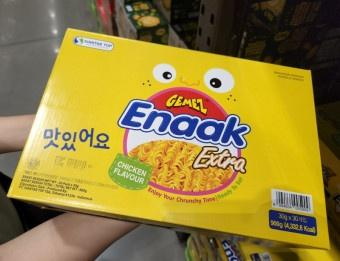snack: (5, 25, 331, 251)
